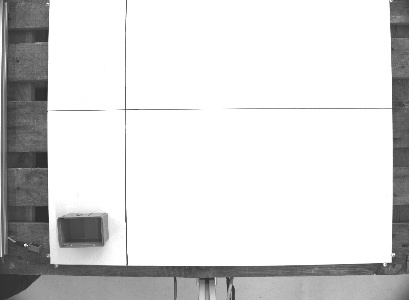kltxs: (54, 209, 112, 250)
